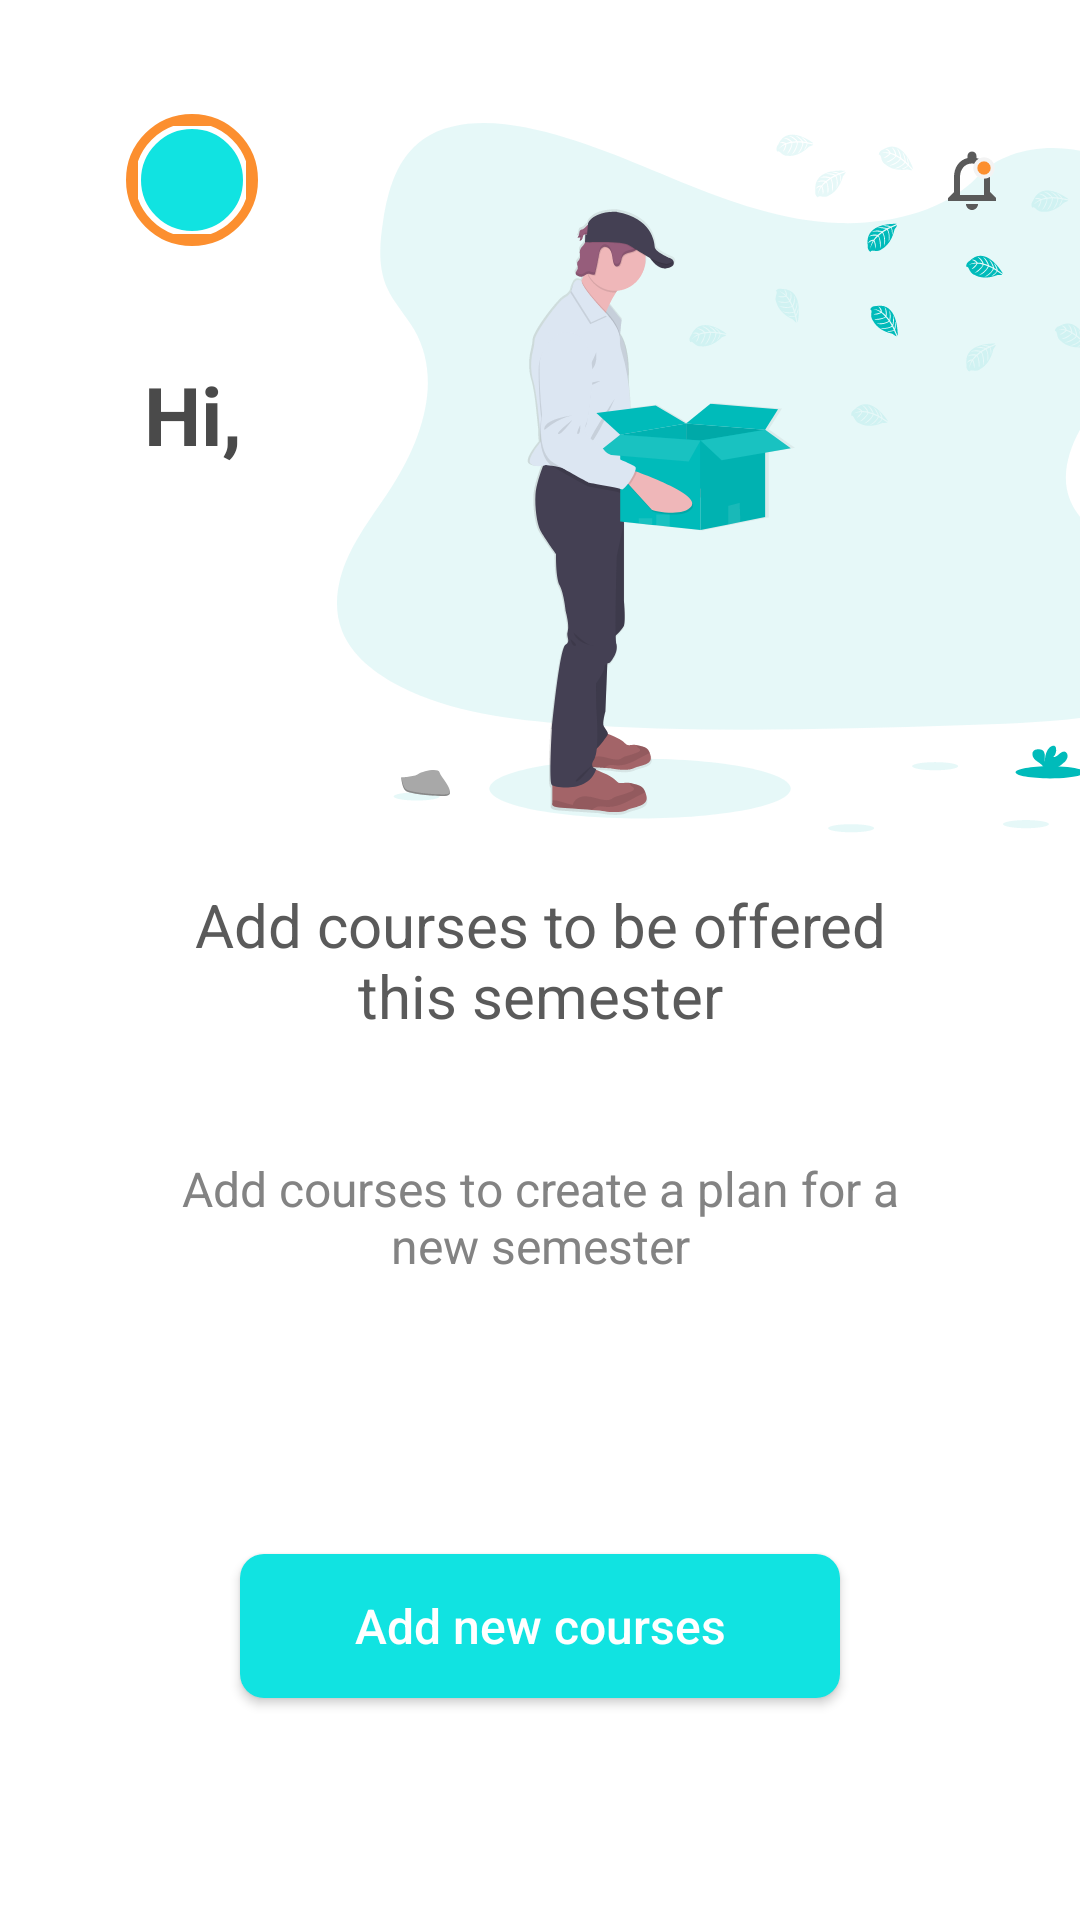

Point at icon controls on the screen. Image size 1080 × 1920, points as [x,y].
notifications: [972,180]
